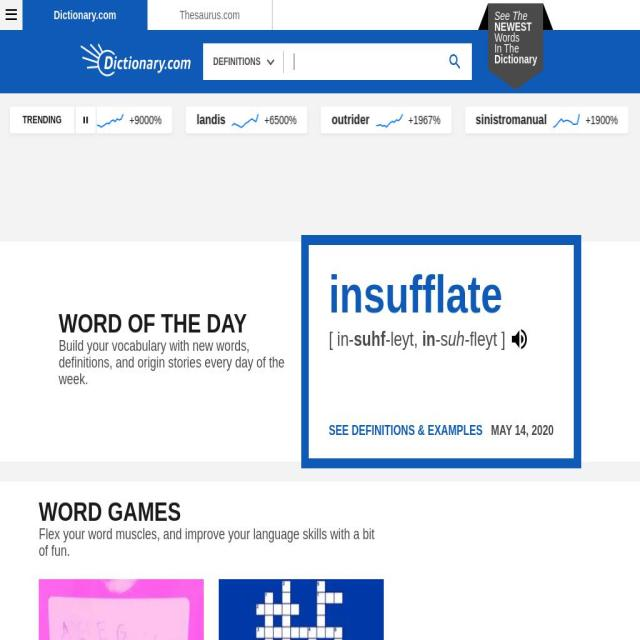button: (38, 579, 204, 640), (218, 579, 384, 640), (81, 43, 203, 80), (22, 0, 148, 30), (147, 0, 272, 30), (110, 107, 248, 133), (396, 107, 526, 133), (260, 107, 382, 133), (539, 107, 640, 133), (0, 107, 97, 133), (494, 11, 538, 65), (329, 424, 491, 438), (75, 107, 96, 133)
field: (289, 50, 438, 73)
heading: (39, 502, 384, 522), (59, 307, 161, 338), (161, 307, 247, 338)
iframe: (92, 146, 548, 222), (413, 501, 601, 640)
image: (38, 579, 204, 640), (218, 579, 384, 640), (80, 43, 190, 77), (0, 0, 22, 30), (19, 112, 49, 128), (449, 112, 479, 128), (170, 112, 199, 128), (305, 112, 334, 128), (511, 329, 527, 350), (626, 112, 640, 128), (81, 114, 90, 126)
link: (494, 52, 537, 66), (494, 20, 532, 33), (494, 9, 528, 23)
text: (59, 337, 291, 388), (39, 526, 384, 559), (328, 265, 502, 323), (491, 352, 554, 438), (10, 107, 74, 133), (550, 110, 622, 130), (328, 423, 418, 438), (418, 423, 483, 438), (464, 328, 506, 350), (120, 110, 166, 130), (385, 328, 422, 350), (406, 110, 445, 130), (354, 328, 386, 350), (271, 110, 301, 130), (328, 328, 354, 350), (213, 56, 261, 67), (53, 113, 86, 127), (204, 113, 237, 127), (339, 113, 372, 127), (483, 113, 516, 127), (448, 328, 464, 350), (494, 31, 520, 44), (494, 42, 519, 55), (422, 328, 436, 350), (0, 110, 15, 130), (435, 328, 448, 350)
